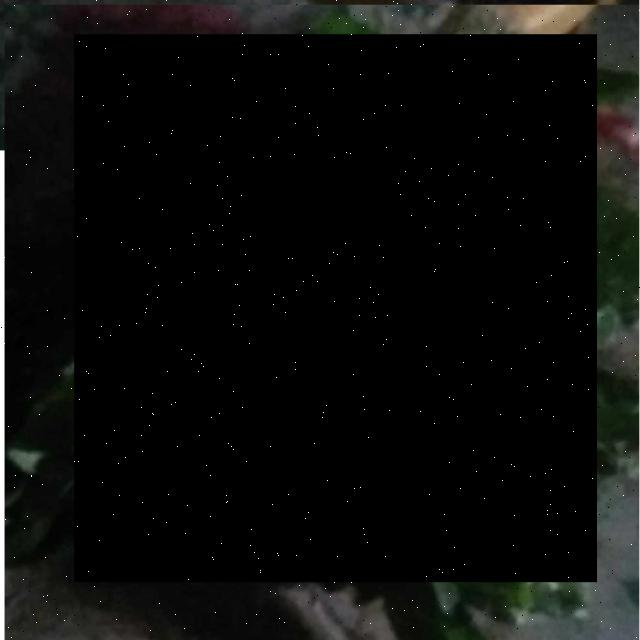Palungo: (74, 34, 597, 582)
